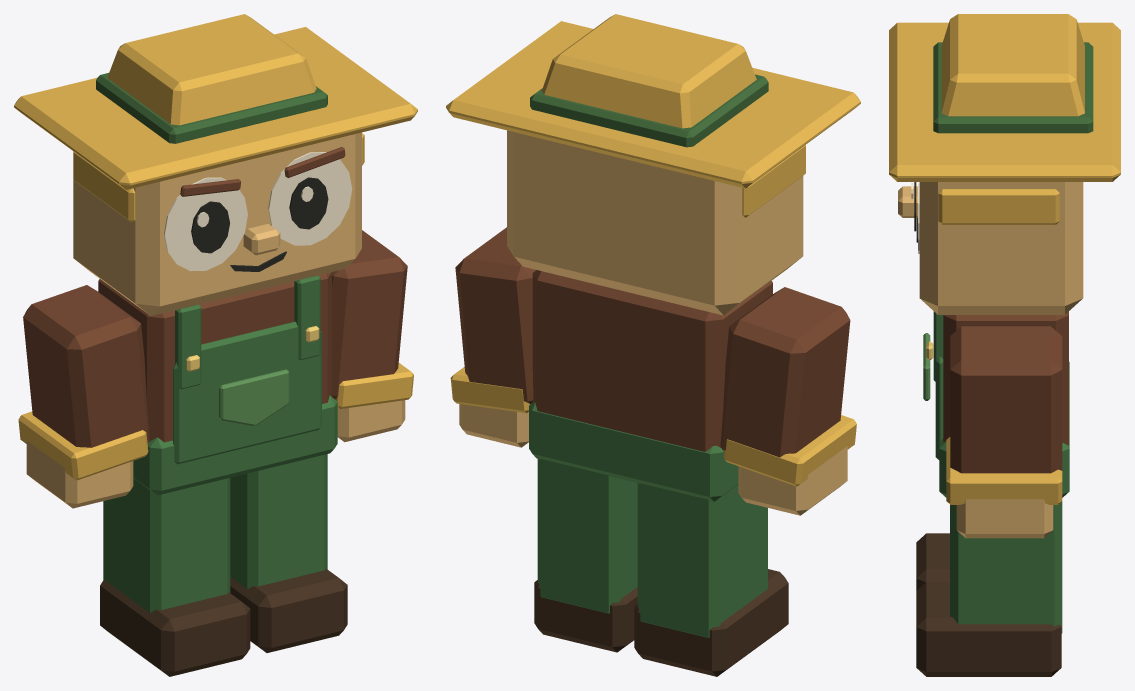
Rendered from meadow-keeper.fbx.
The picture shows the model from 3 angles, left to right: view 1: azimuth 30°, elevation 25°; view 2: azimuth 150°, elevation 25°; view 3: azimuth 270°, elevation 25°; orthographic projection. The views are drawn at different scales.
Visible parts, largest first — view 1: Hat, Head, Torso, Leg.L, Arm.L, Leg.R, Arm.R; view 2: Hat, Head, Torso, Arm.L, Leg.L, Leg.R, Arm.R; view 3: Hat, Arm.R, Head, Leg.R, Torso, Leg.L.
Boxes of the visible parts, <box> form: Hat: <box>14,14,417,189</box>; Head: <box>73,132,364,315</box>; Torso: <box>98,272,337,495</box>; Leg.L: <box>100,478,250,676</box>; Arm.L: <box>18,285,149,508</box>; Leg.R: <box>230,454,347,652</box>; Arm.R: <box>331,230,413,442</box>; Hat: <box>446,14,860,188</box>; Head: <box>507,130,805,315</box>; Torso: <box>529,270,772,501</box>; Arm.L: <box>720,287,856,515</box>; Leg.L: <box>634,483,788,676</box>; Leg.R: <box>534,459,637,652</box>; Arm.R: <box>450,227,535,447</box>; Hat: <box>889,14,1120,181</box>; Arm.R: <box>946,326,1062,538</box>; Head: <box>898,182,1083,314</box>; Leg.R: <box>916,502,1062,676</box>; Torso: <box>923,311,1069,497</box>; Leg.L: <box>916,533,949,590</box>.
Size of the model in its own units: 684 by 1100 by 391.
